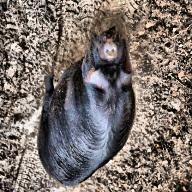boar: (38, 25, 136, 187)
